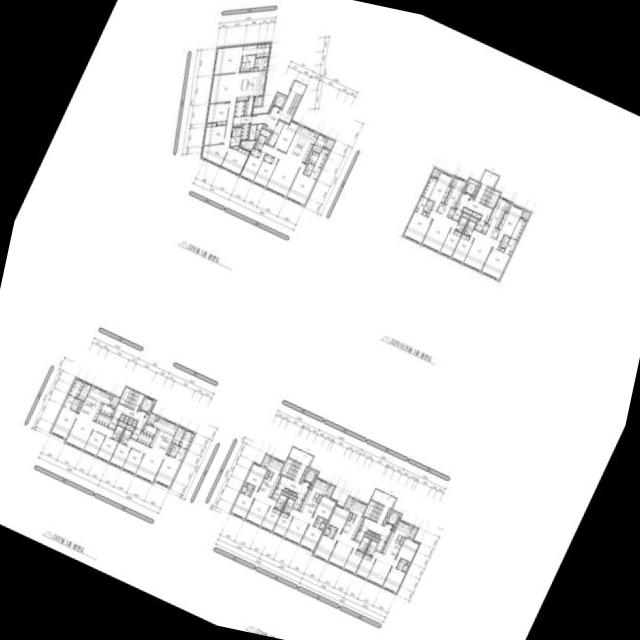background: (0, 0, 640, 640)
space_balconi: (323, 137, 334, 149), (253, 96, 262, 105)
space_bedroom: (286, 162, 315, 205), (495, 204, 523, 241), (428, 171, 452, 211), (402, 210, 431, 243), (480, 247, 509, 279), (50, 405, 77, 438), (154, 454, 181, 487), (213, 45, 242, 74), (220, 146, 249, 174), (273, 120, 298, 151), (252, 157, 277, 187), (240, 151, 265, 181), (439, 227, 461, 257), (451, 233, 473, 262), (312, 534, 336, 560), (382, 566, 405, 593), (244, 462, 266, 490), (327, 504, 349, 532), (299, 524, 322, 550), (230, 492, 253, 518), (395, 537, 419, 561), (312, 495, 336, 519), (82, 429, 104, 455), (95, 435, 117, 461), (121, 448, 143, 473), (202, 122, 225, 145), (109, 442, 130, 467), (355, 553, 375, 579), (206, 102, 228, 125), (260, 506, 280, 531), (343, 548, 363, 573), (272, 511, 292, 536), (250, 147, 260, 157), (263, 153, 273, 163)
space_dressroom: (67, 377, 84, 397), (421, 176, 436, 198), (178, 429, 194, 449), (510, 218, 525, 239), (314, 147, 328, 167), (415, 195, 427, 214), (255, 42, 270, 57), (503, 237, 516, 254), (308, 151, 318, 164)
space_elevator: (138, 395, 154, 413), (462, 178, 478, 195), (271, 92, 286, 108), (385, 510, 400, 526), (303, 468, 317, 484)
space_elevator_hall: (250, 80, 305, 131), (455, 170, 498, 221), (276, 446, 313, 498), (359, 488, 395, 540), (112, 403, 148, 429)
space_front: (266, 119, 283, 146), (136, 430, 152, 445), (95, 412, 111, 426), (232, 115, 250, 126), (234, 100, 244, 116), (240, 123, 249, 139), (473, 218, 484, 231), (451, 208, 462, 221), (353, 529, 364, 542), (129, 427, 140, 439), (107, 417, 118, 429), (375, 539, 385, 551), (292, 497, 302, 509), (271, 487, 281, 499)
space_kitchen: (381, 520, 412, 559), (436, 176, 466, 216), (285, 124, 316, 162), (299, 477, 329, 516), (78, 385, 110, 420), (149, 416, 178, 454), (485, 196, 510, 239), (340, 498, 366, 538), (257, 456, 283, 496), (235, 70, 266, 100), (142, 423, 156, 436), (99, 403, 113, 416)
space_living_room: (200, 72, 239, 165), (260, 143, 301, 196), (125, 437, 164, 482), (64, 414, 113, 449), (462, 229, 500, 271), (421, 209, 457, 251), (327, 531, 359, 568), (366, 550, 398, 586), (283, 507, 315, 543), (244, 489, 276, 525)
space_other: (311, 133, 327, 152), (171, 425, 185, 444), (77, 382, 90, 400), (254, 56, 268, 70), (243, 96, 253, 115), (259, 128, 270, 142), (240, 139, 255, 149), (254, 123, 262, 139), (299, 466, 307, 482), (248, 124, 256, 139), (382, 509, 390, 524), (446, 207, 455, 218), (480, 222, 489, 233), (305, 150, 312, 163), (166, 442, 172, 454), (76, 400, 82, 412), (462, 207, 472, 214), (471, 211, 481, 218), (469, 215, 477, 222), (117, 420, 125, 427), (461, 212, 469, 218), (125, 424, 133, 430), (280, 490, 288, 496), (363, 532, 371, 538), (448, 176, 453, 185), (506, 203, 511, 212), (475, 183, 480, 191), (472, 190, 477, 198), (316, 494, 321, 502), (264, 470, 269, 478), (347, 512, 352, 520), (371, 536, 379, 541), (288, 494, 296, 499), (399, 536, 404, 544), (267, 105, 272, 112), (123, 415, 128, 422), (131, 419, 136, 426), (127, 417, 132, 424), (119, 413, 124, 420), (231, 145, 238, 149), (249, 67, 257, 70), (262, 123, 266, 128), (314, 132, 318, 137), (283, 487, 288, 491), (374, 533, 379, 537), (325, 523, 329, 527), (292, 491, 296, 495), (288, 489, 292, 493), (406, 561, 410, 565), (366, 530, 371, 533), (155, 415, 158, 420), (370, 532, 375, 535), (425, 212, 428, 216), (414, 207, 417, 211), (324, 519, 327, 523), (243, 481, 246, 485), (263, 66, 266, 69), (508, 251, 511, 254), (497, 246, 500, 249), (309, 484, 311, 487), (392, 527, 394, 529)
space_outdoor_room: (108, 395, 119, 407), (260, 454, 270, 467), (324, 484, 334, 497), (407, 526, 417, 539), (343, 496, 353, 509), (146, 412, 156, 424), (430, 168, 440, 178), (520, 210, 529, 220)
space_staircase: (118, 387, 143, 410), (479, 186, 499, 207), (363, 500, 383, 521), (280, 458, 300, 479), (286, 92, 301, 115)
space_toilet: (239, 54, 255, 71), (463, 219, 475, 235), (119, 428, 131, 444), (282, 497, 294, 513), (274, 493, 286, 509), (365, 539, 377, 555), (455, 216, 467, 232), (253, 134, 265, 149), (111, 425, 123, 440), (357, 536, 369, 551), (242, 43, 256, 55), (174, 446, 186, 460), (63, 394, 74, 408), (309, 165, 320, 178), (313, 516, 324, 527), (396, 558, 407, 569), (244, 483, 253, 495), (327, 525, 336, 537), (229, 136, 239, 145), (302, 167, 311, 175), (501, 234, 510, 242), (422, 204, 431, 212), (425, 199, 434, 207), (170, 443, 179, 451), (69, 403, 78, 411), (305, 162, 313, 170), (72, 397, 80, 405), (499, 240, 507, 248), (235, 126, 241, 136), (168, 449, 176, 456), (240, 485, 247, 493), (323, 527, 330, 535), (318, 521, 324, 529), (231, 127, 236, 136), (401, 564, 407, 571)
